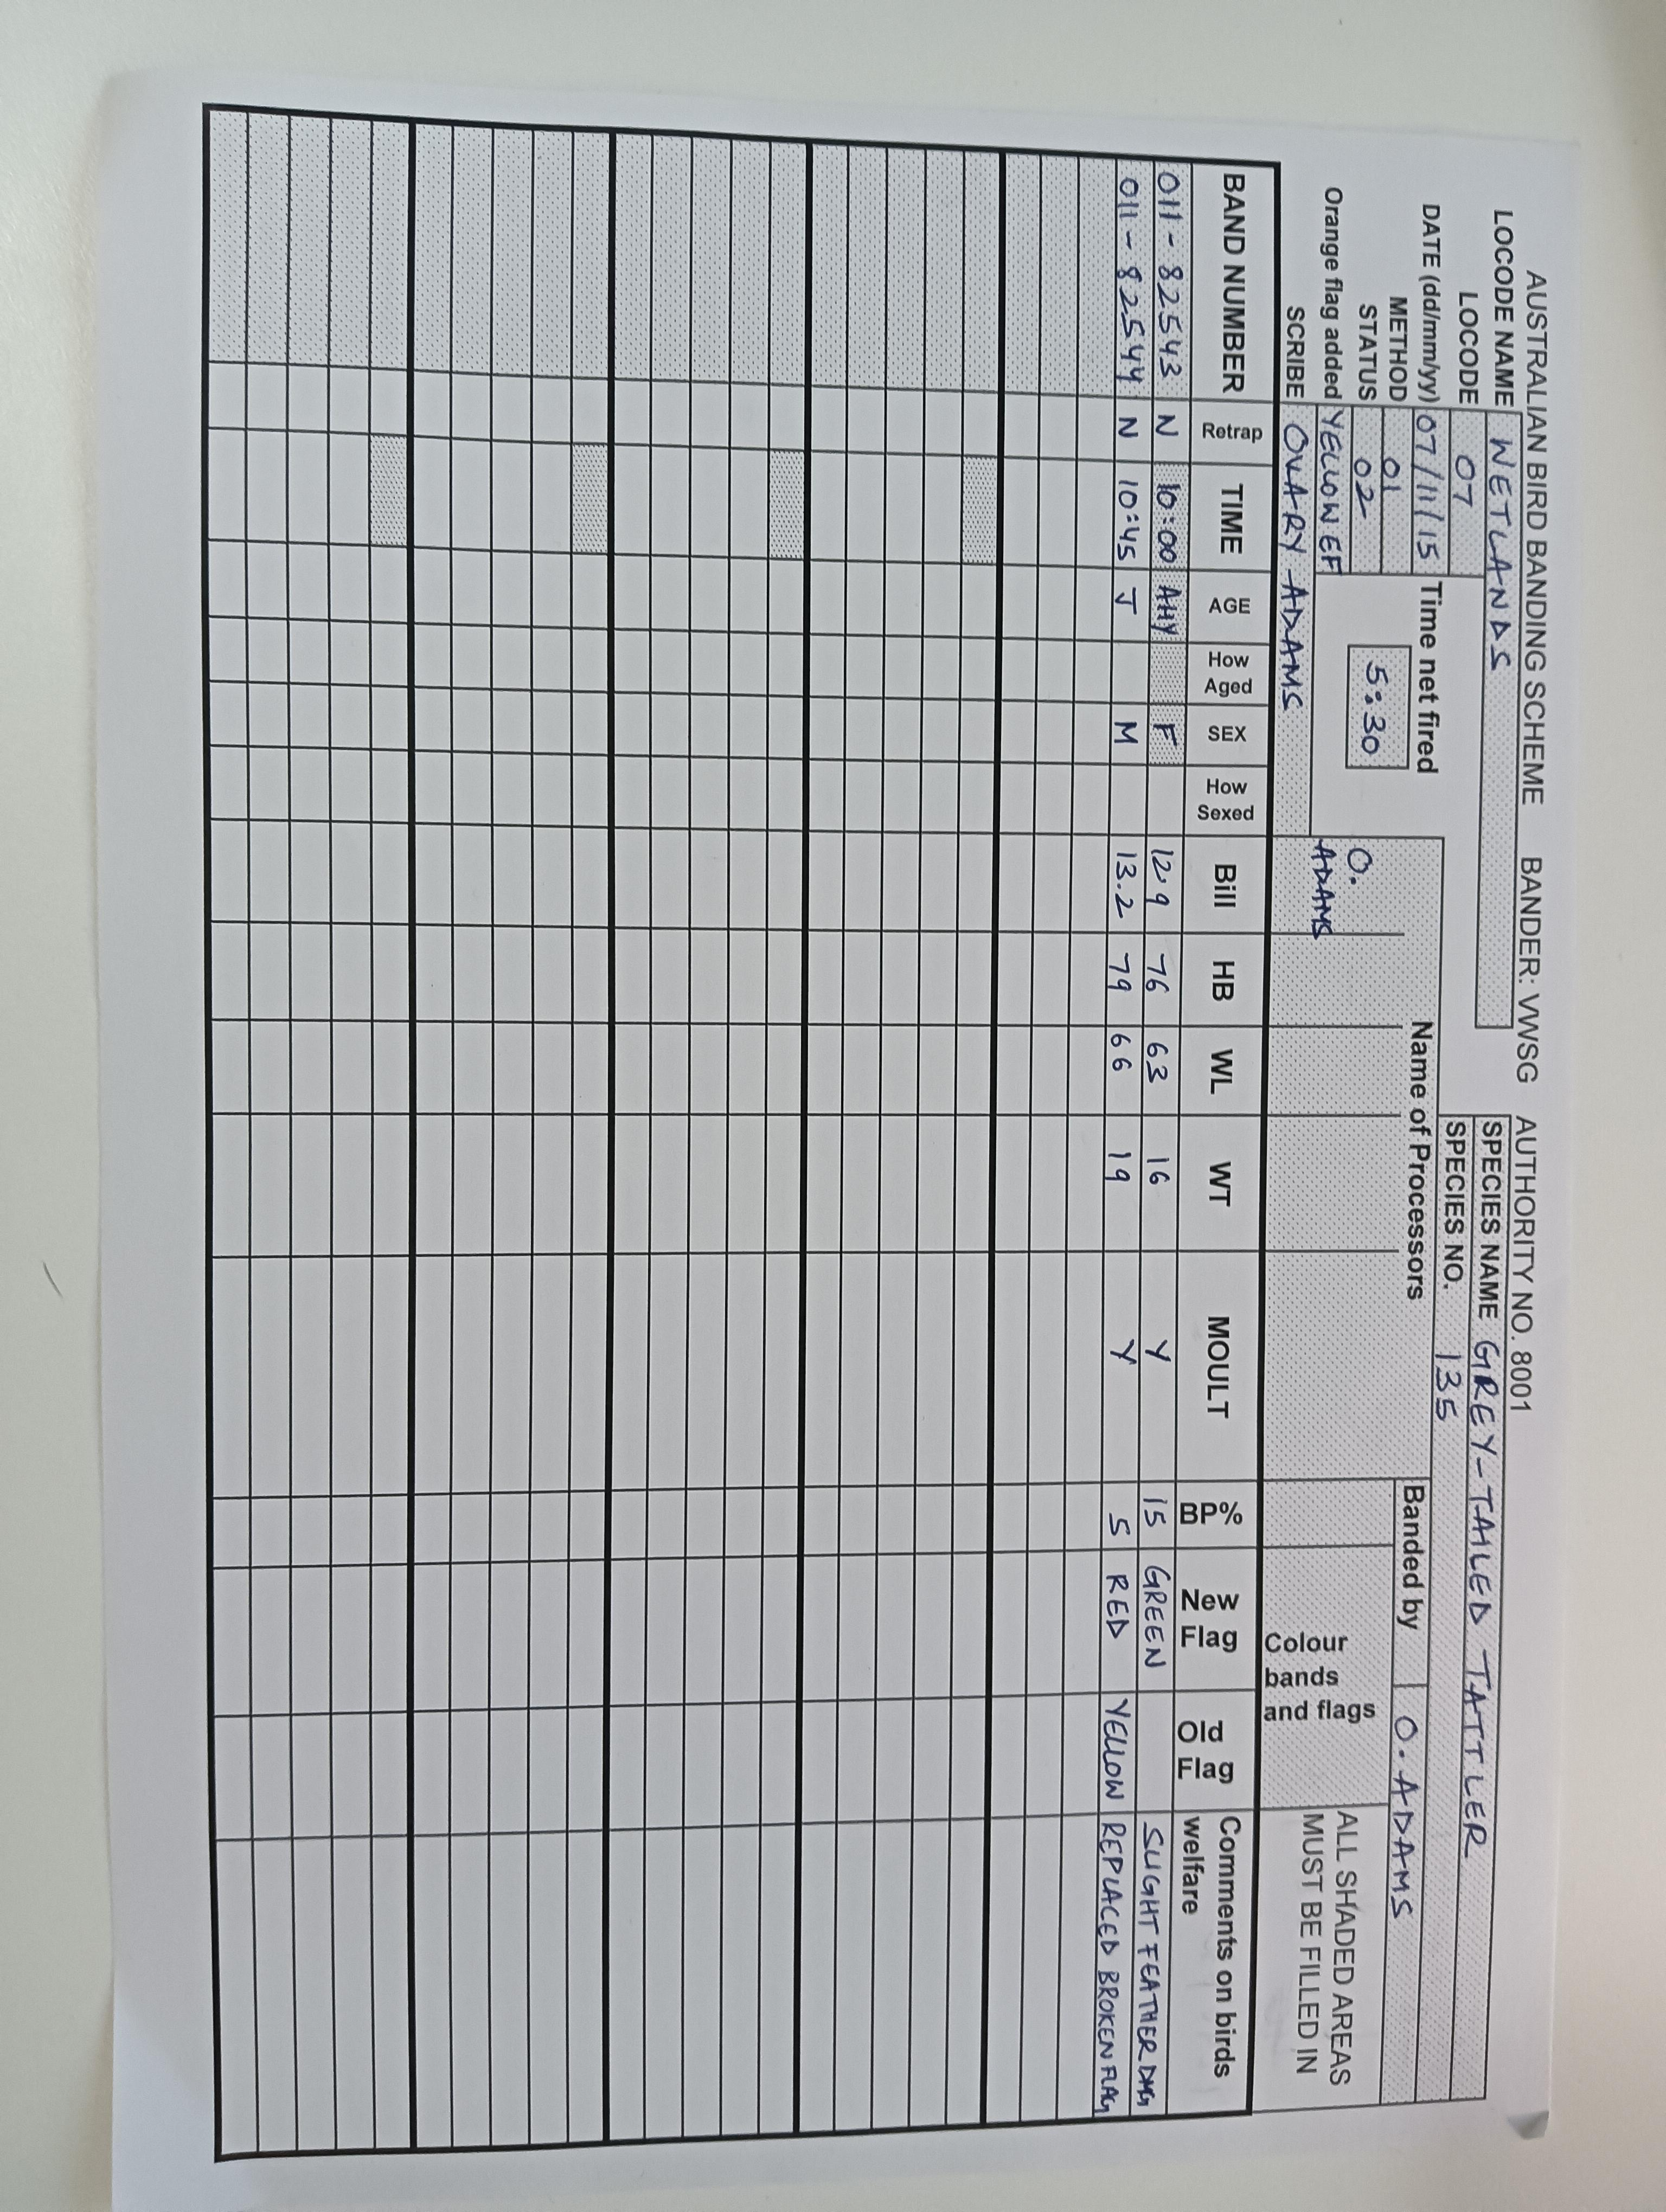BANDED_BY: (1383, 1476, 1428, 2105)
DATA: (1092, 150, 1159, 2118), (1127, 164, 1192, 2116)
DATE: (1412, 177, 1456, 574)
LOCOCODE: (1447, 275, 1486, 579)
LOCOCODE_NAME: (1475, 194, 1529, 1026)
METHOD: (1383, 285, 1416, 577)
NAME_OF_PROCESSORS: (1281, 838, 1405, 937)
ORANGE_FLAG_ADDED: (1312, 170, 1360, 574)
SCRIBE: (1276, 289, 1319, 836)
SPECIES_NAME: (1453, 1109, 1510, 2098)
SPECIES_NO: (1414, 1116, 1477, 2100)
STATUS: (1349, 283, 1386, 574)
TIME_NET_FIRED: (1328, 581, 1470, 796)
